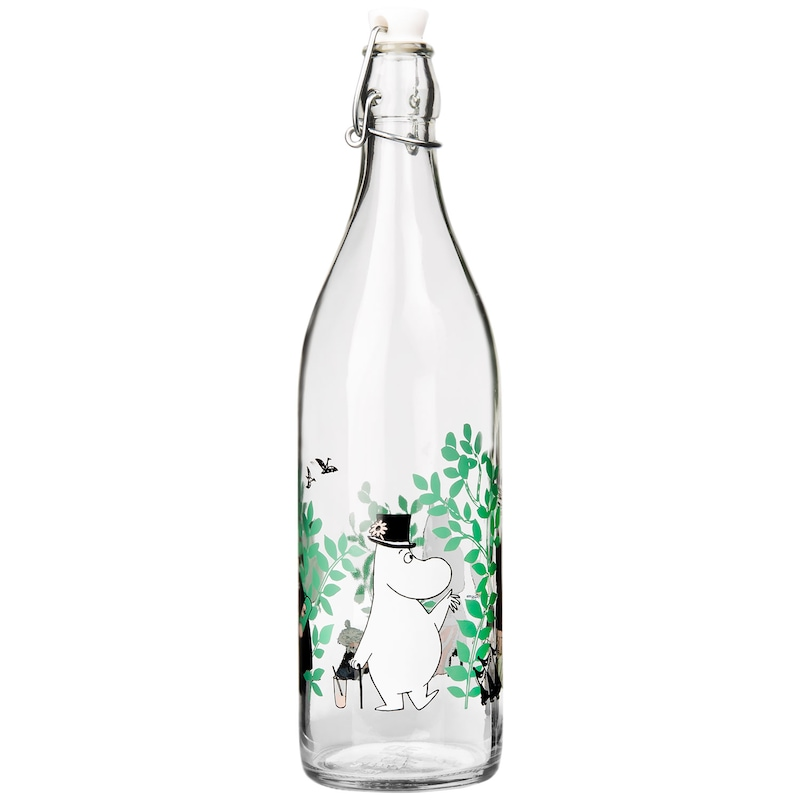glass_bottleww: (247, 1, 571, 800)
